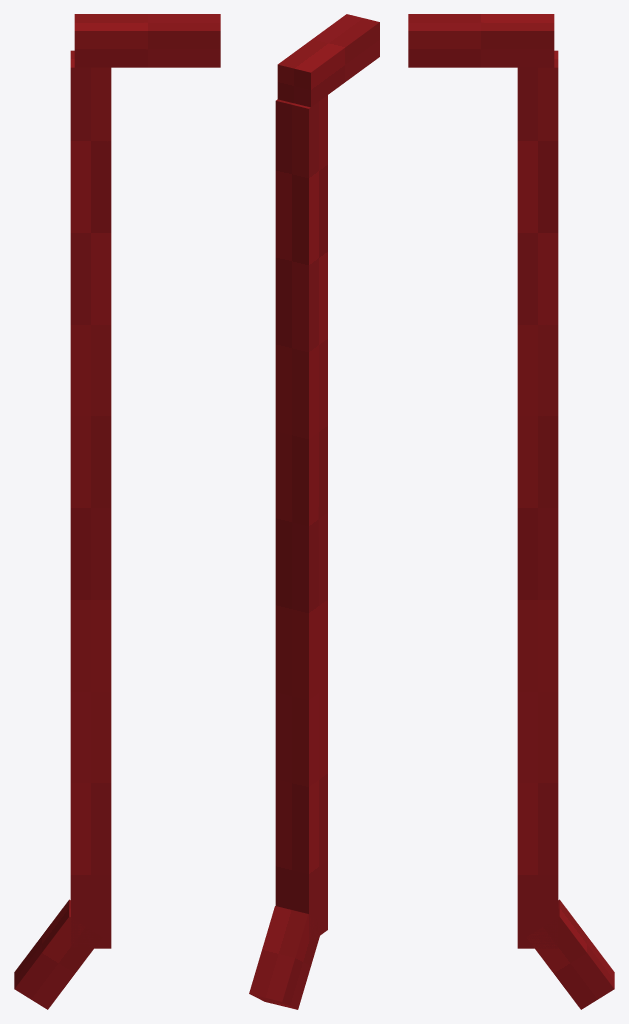
Rendered from item_crowbar.glb.
The picture shows the model from 3 angles, left to right: view 1: azimuth 90°, elevation 25°; view 2: azimuth 150°, elevation 25°; view 3: azimuth 270°, elevation 25°; orthographic projection. The views are drawn at different scales.
Visible parts, largest first — view 1: bar, hook, claw; view 2: bar, hook, claw; view 3: bar, hook, claw.
Boxes of the visible parts, x1,y1,x2,y2 form: bar: (70,50,111,948); hook: (74,14,220,67); claw: (14,899,102,1009); bar: (275,95,327,943); hook: (277,14,379,107); claw: (249,906,322,1009); bar: (517,50,558,948); hook: (408,14,554,67); claw: (526,899,614,1009).
Bounding box in the file's own units: 0.025 × 0.6668 × 0.1273.
1 material, 1 textured.
